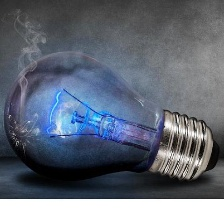light_bulb: (1, 47, 223, 190)
